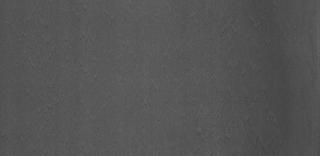silk spot: (162, 14, 280, 138), (65, 40, 111, 92)
